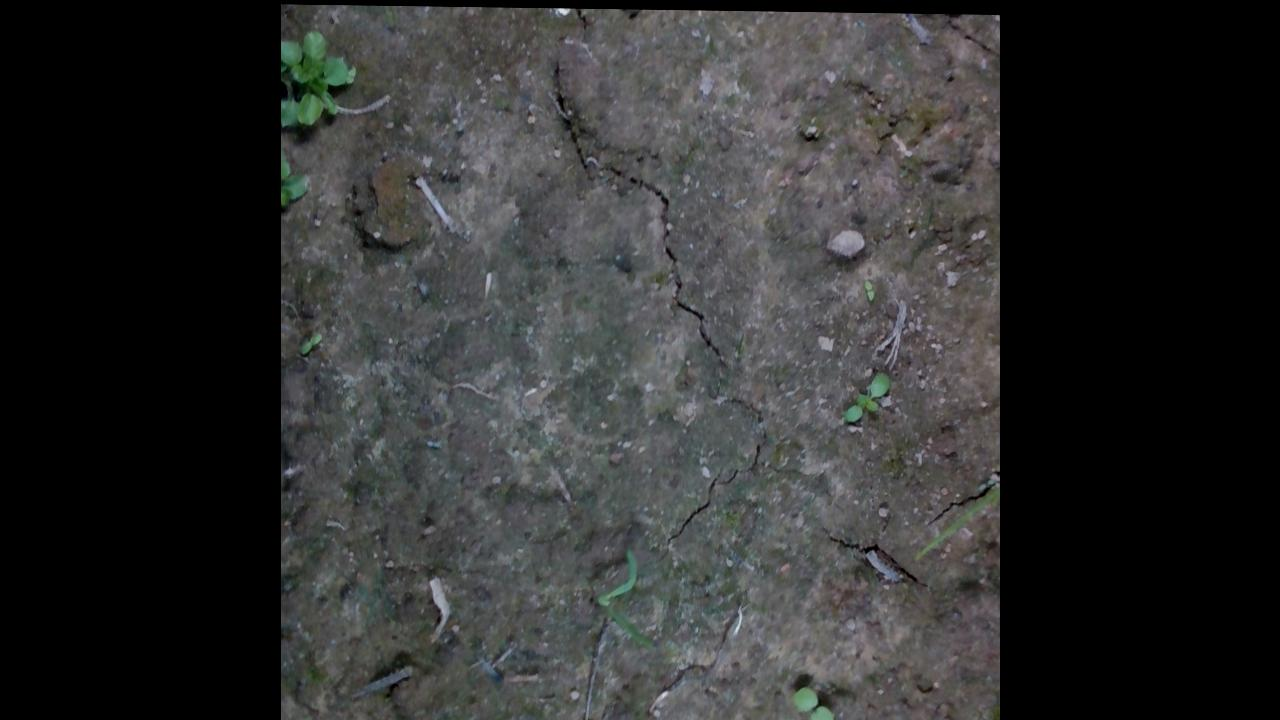weed: (845, 367, 892, 421), (791, 677, 841, 719)
